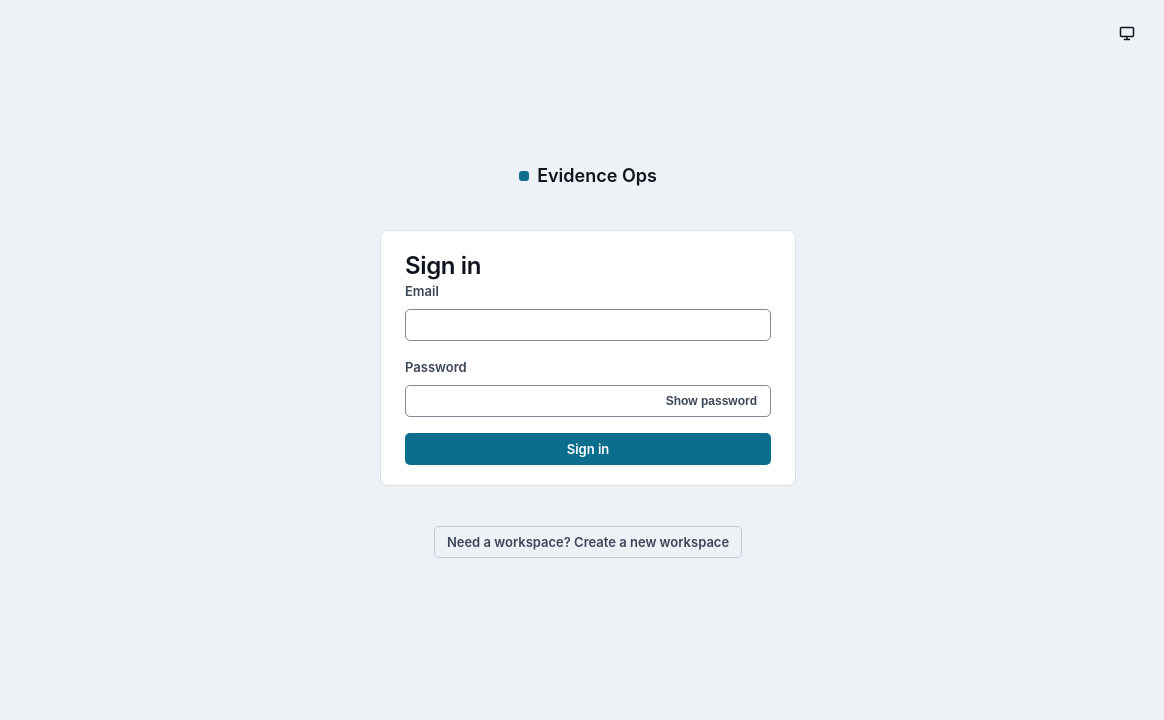
Test: LoginPage › lands on / after signing in when ?next= carries a tab between slashes
Step 1. Type "user@example.com" into the field labelled "Email" → (588, 325), box x1=405 y1=309 x2=771 y2=341
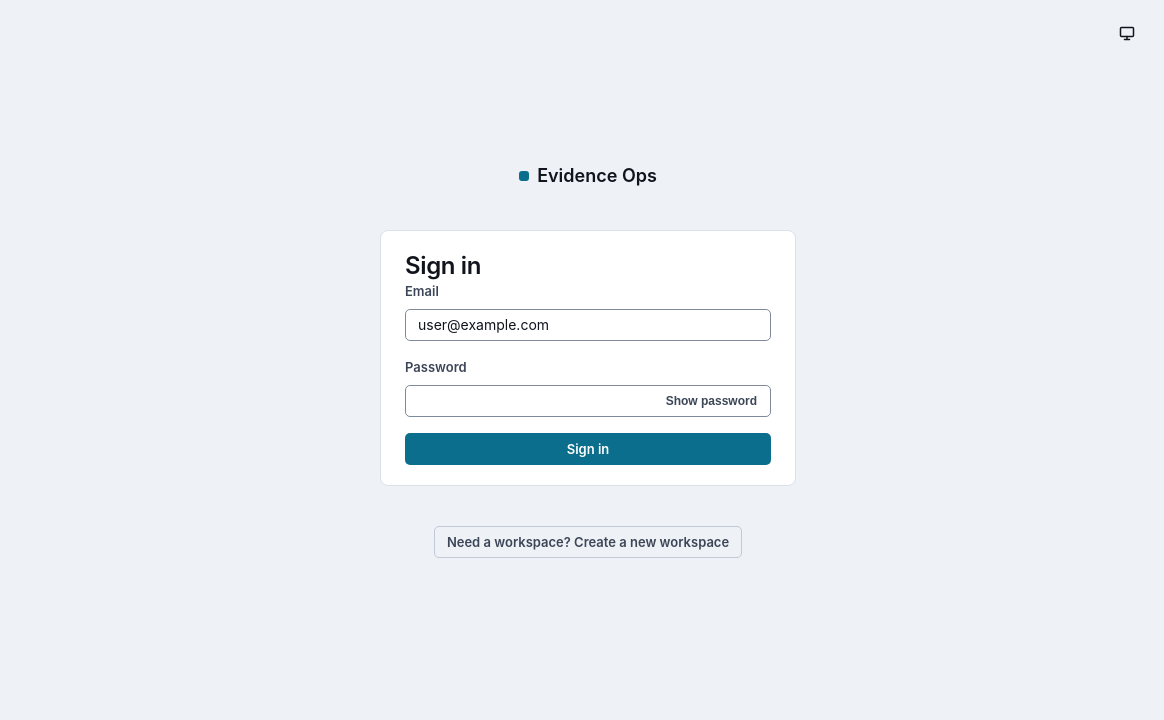
Step 2. Type "correct-password" into the password field labelled "Password" → (588, 401), box x1=405 y1=385 x2=771 y2=417
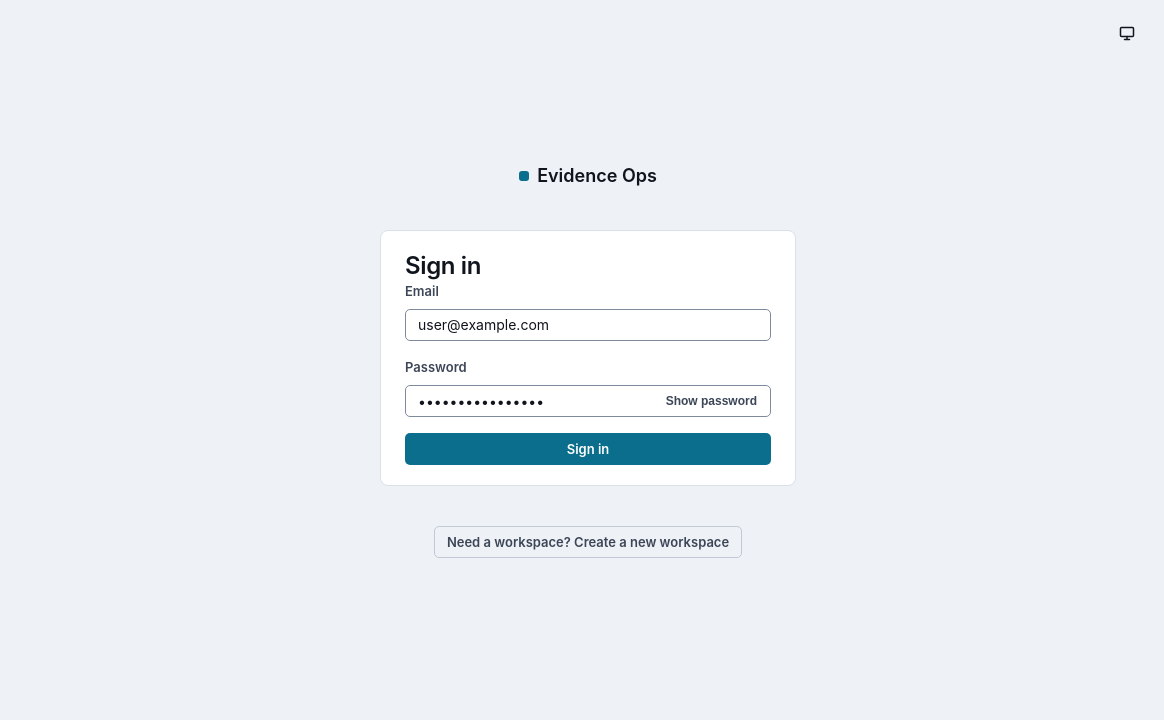
Step 3. Click the button "Sign in" → (588, 449), box x1=405 y1=433 x2=771 y2=465
(page scrolled)
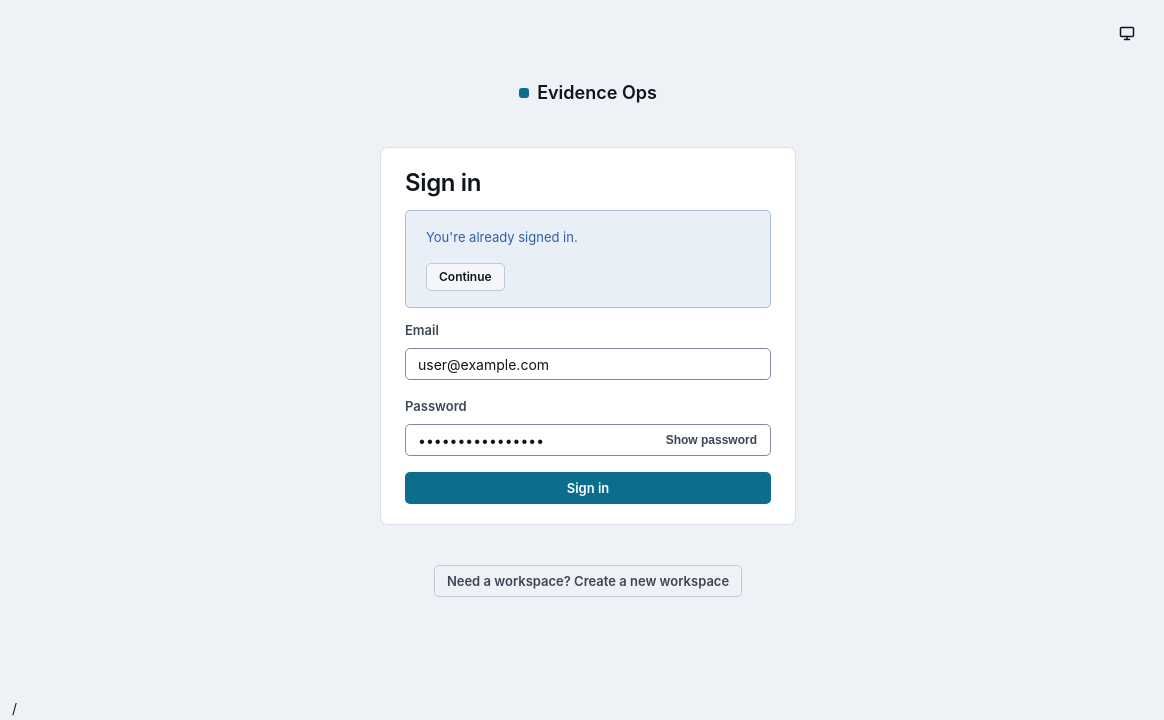
Now the text named "current location" reads "/", box x1=12 y1=700 x2=17 y2=717
